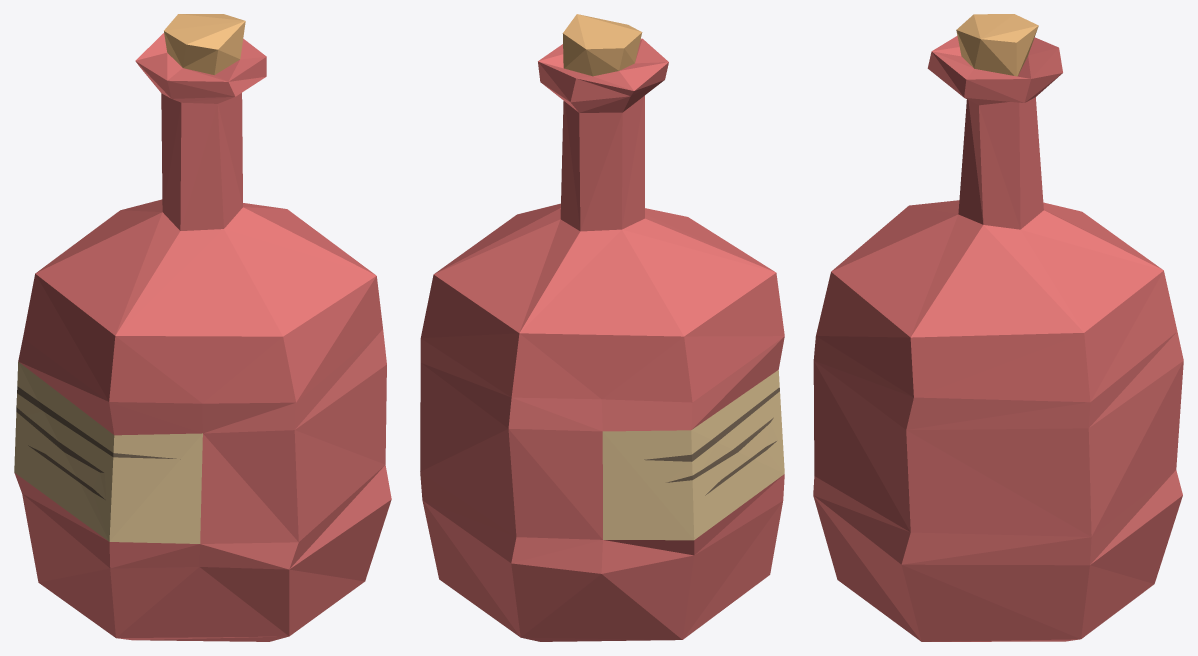
File: SFM_AP_Potion_Pink_005.fbx
3 renders of one model, left to right at view 1: azimuth 30°, elevation 25°; view 2: azimuth 150°, elevation 25°; view 3: azimuth 270°, elevation 25°, orthographic.
Visible parts, largest first — view 1: SFM_AP_Potion_Pink_005; view 2: SFM_AP_Potion_Pink_005; view 3: SFM_AP_Potion_Pink_005.
Boxes of the visible parts, x1,y1,x2,y2 form: SFM_AP_Potion_Pink_005: (14, 14, 391, 641); SFM_AP_Potion_Pink_005: (420, 14, 784, 641); SFM_AP_Potion_Pink_005: (813, 14, 1183, 641).
Bounding box in the file's own units: 9.05 × 17.5 × 10.35.
